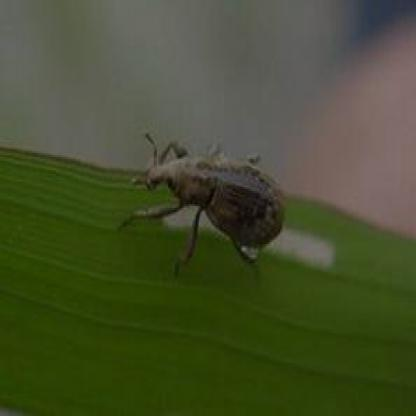rice-bug: (122, 132, 291, 270)
